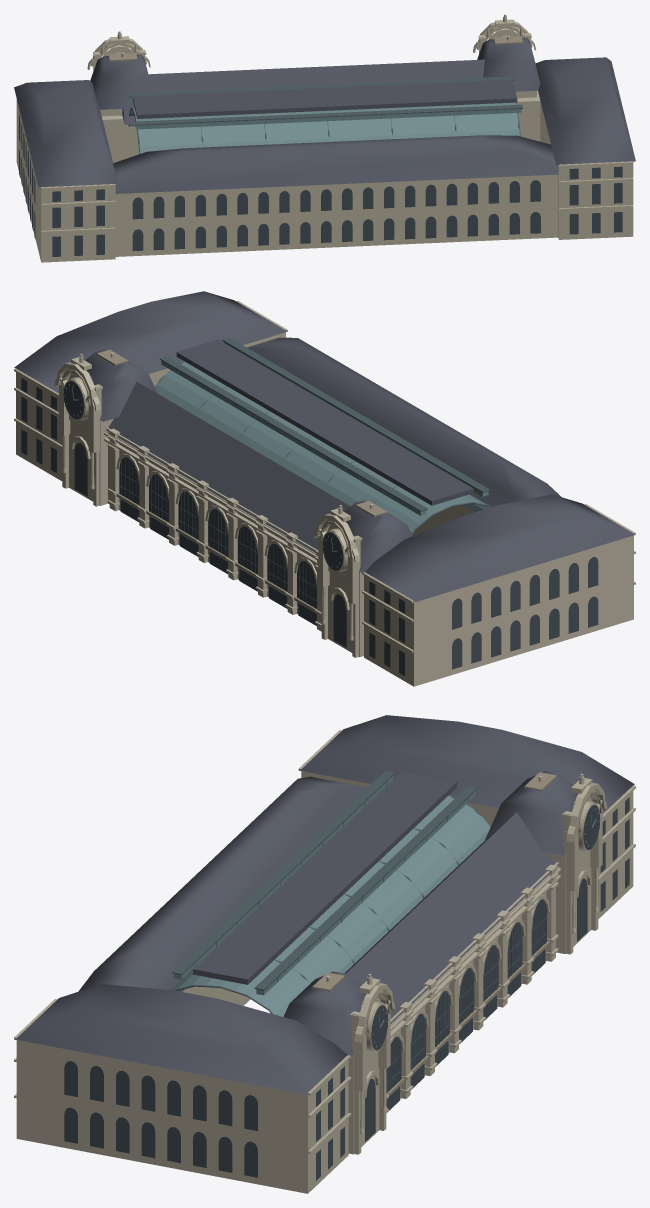
The model's file is paris-musee-orsay-far.glb.
The picture shows the model from 3 angles, top to bottom: view 1: azimuth 30°, elevation 25°; view 2: azimuth 150°, elevation 25°; view 3: azimuth 270°, elevation 25°; orthographic projection. The views are drawn at different scales.
Visible parts, largest first — view 1: paris-musee-orsay-roof, paris-musee-orsay-stone, paris-musee-orsay-shadow, paris-musee-orsay-glass, paris-musee-orsay-iron, paris-musee-orsay-stoneDark; view 2: paris-musee-orsay-roof, paris-musee-orsay-stone, paris-musee-orsay-shadow, paris-musee-orsay-glass, paris-musee-orsay-iron, paris-musee-orsay-stoneDark; view 3: paris-musee-orsay-roof, paris-musee-orsay-stone, paris-musee-orsay-shadow, paris-musee-orsay-glass, paris-musee-orsay-iron, paris-musee-orsay-stoneDark.
Boxes of the visible parts, box(x1,y1,x2,y2) form: paris-musee-orsay-roof: box(14, 37, 635, 193); paris-musee-orsay-stone: box(16, 14, 633, 262); paris-musee-orsay-shadow: box(19, 115, 622, 256); paris-musee-orsay-glass: box(128, 80, 521, 153); paris-musee-orsay-iron: box(127, 76, 522, 154); paris-musee-orsay-stoneDark: box(108, 36, 522, 61); paris-musee-orsay-roof: box(14, 291, 635, 601); paris-musee-orsay-stone: box(14, 301, 635, 686); paris-musee-orsay-shadow: box(21, 378, 598, 676); paris-musee-orsay-glass: box(155, 342, 489, 533); paris-musee-orsay-iron: box(119, 337, 491, 607); paris-musee-orsay-stoneDark: box(60, 349, 387, 611); paris-musee-orsay-roof: box(15, 715, 634, 1094); paris-musee-orsay-stone: box(14, 730, 635, 1193); paris-musee-orsay-shadow: box(64, 797, 629, 1180); paris-musee-orsay-glass: box(171, 775, 490, 1016); paris-musee-orsay-iron: box(172, 770, 547, 1092); paris-musee-orsay-stoneDark: box(312, 772, 601, 1096).
Bounding box in the file's own units: 202 × 42.95 × 145.
